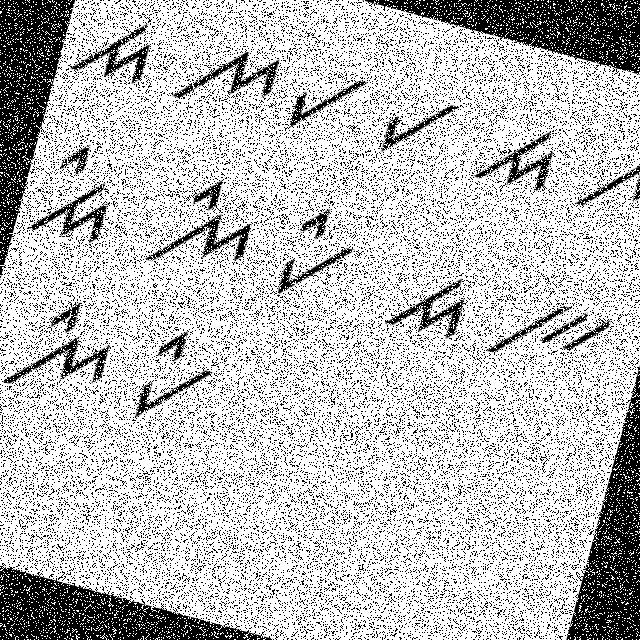da: (463, 100, 576, 212), (367, 247, 488, 350), (63, 0, 168, 101)
di: (22, 133, 126, 252)
na: (164, 20, 286, 135), (572, 137, 639, 236)
ni: (0, 279, 126, 419), (142, 164, 262, 288)
pa: (368, 79, 464, 175), (283, 57, 371, 144)
pi: (125, 320, 228, 440), (264, 197, 362, 313)
